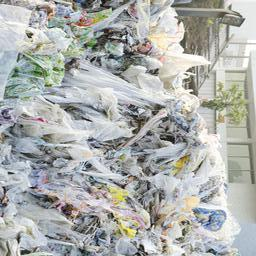plastic: (0, 0, 240, 256)
